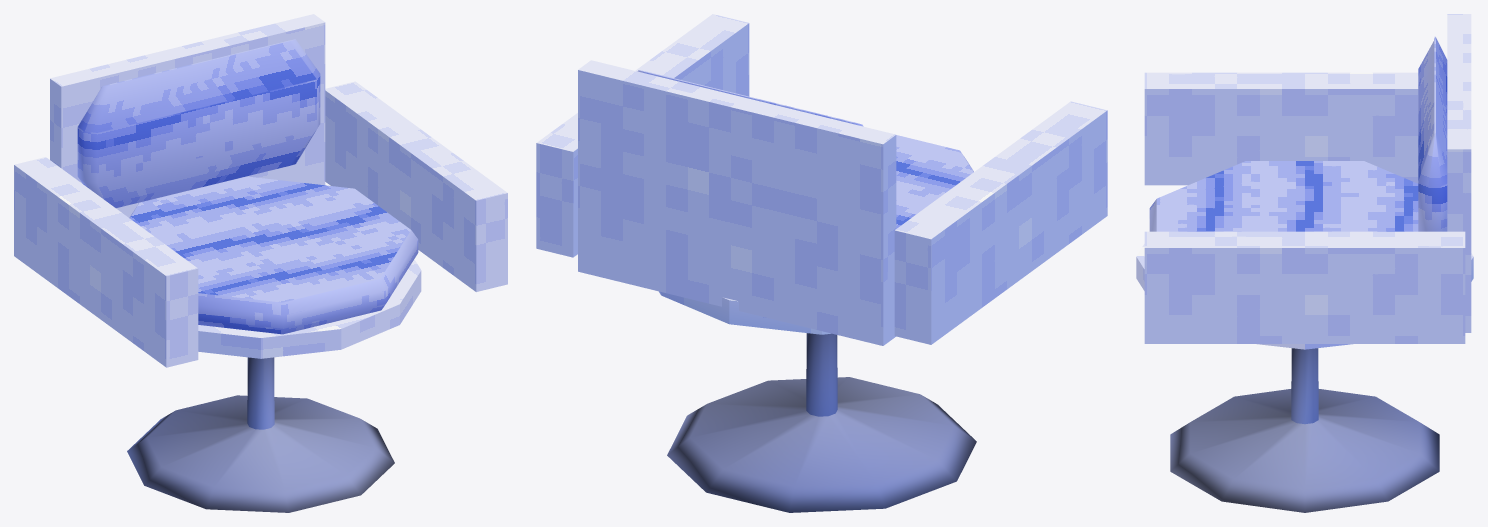
The model's file is furn.chair.glb.
3 views of the same model, side by side, from view 1: azimuth 30°, elevation 25°; view 2: azimuth 150°, elevation 25°; view 3: azimuth 270°, elevation 25° (orthographic). The views are drawn at different scales.
Visible parts, largest first — view 1: kit_back, kit_cushion, kit_frame, kit_seat; view 2: kit_back, kit_frame, kit_cushion, kit_seat; view 3: kit_back, kit_frame, kit_cushion, kit_seat.
Boxes of the visible parts, x1=… form: kit_back: x1=14, y1=14, x2=507, y2=367; kit_cushion: x1=129, y1=176, x2=418, y2=334; kit_frame: x1=127, y1=357, x2=394, y2=512; kit_seat: x1=198, y1=259, x2=421, y2=358; kit_back: x1=536, y1=14, x2=1107, y2=345; kit_frame: x1=667, y1=333, x2=976, y2=512; kit_cushion: x1=896, y1=135, x2=973, y2=228; kit_seat: x1=659, y1=291, x2=830, y2=334; kit_back: x1=1144, y1=14, x2=1471, y2=343; kit_frame: x1=1170, y1=348, x2=1439, y2=512; kit_cushion: x1=1149, y1=161, x2=1418, y2=231; kit_seat: x1=1136, y1=244, x2=1473, y2=349.
Size of the model in its own units: 0.86 by 0.85 by 0.7.
3 materials, 2 textured.
